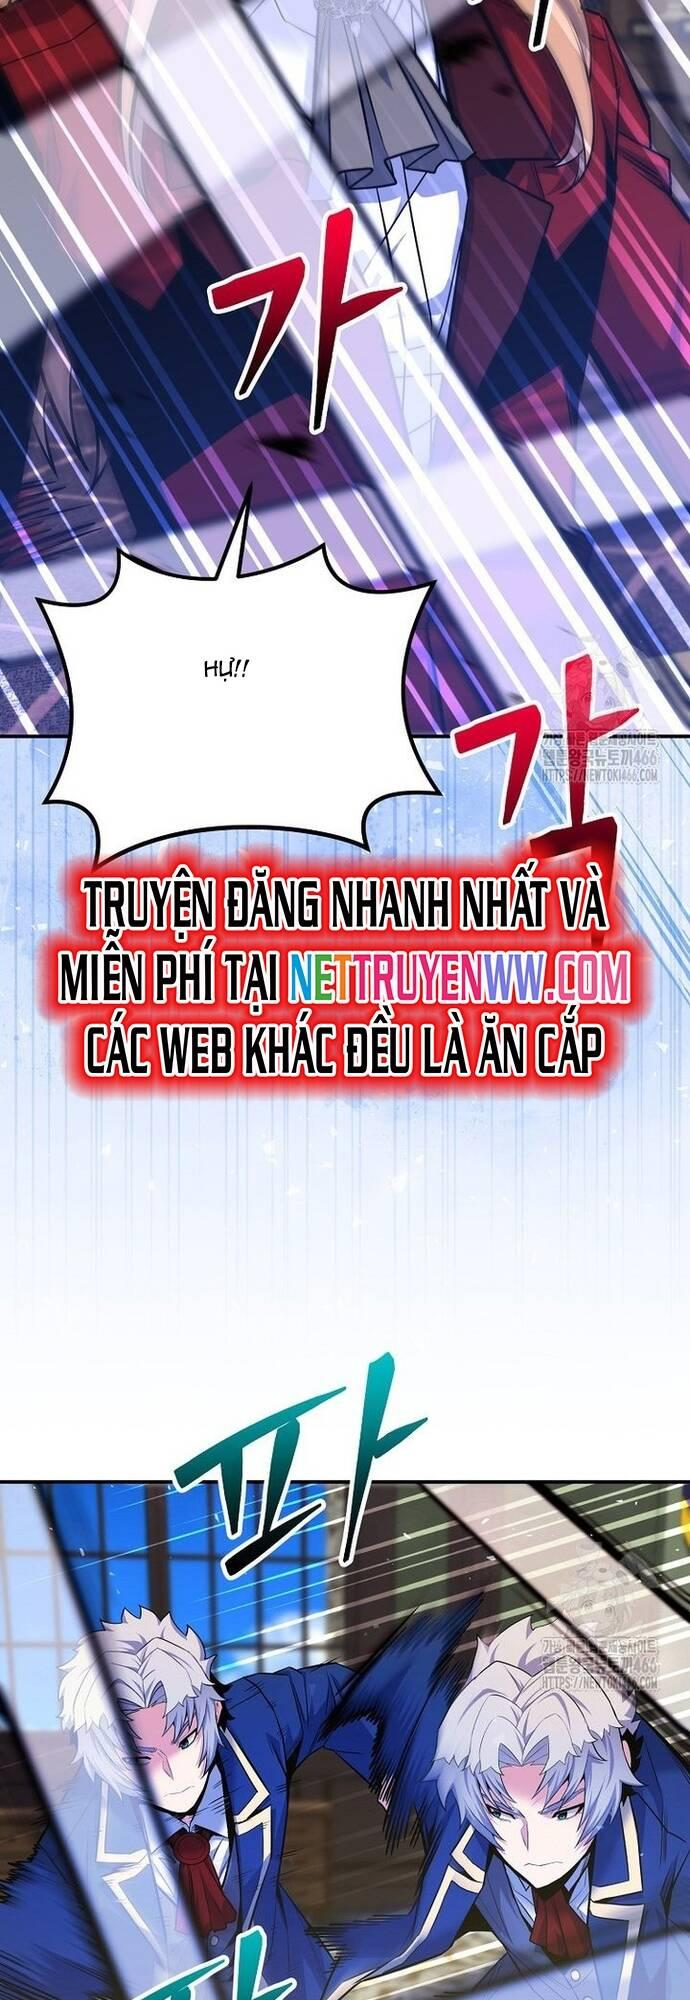quangcao: (45, 857, 645, 1102)
